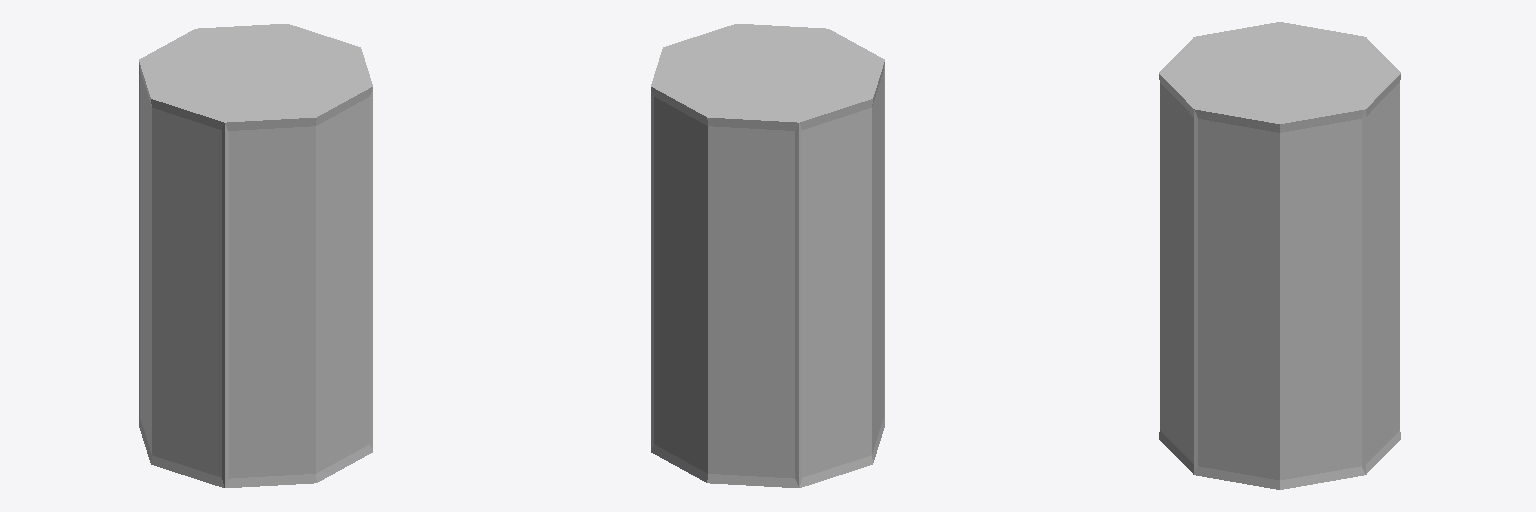
File: NeonLampe001.obj
3 views of the same model, side by side, from view 1: azimuth 30°, elevation 25°; view 2: azimuth 150°, elevation 25°; view 3: azimuth 270°, elevation 25° (orthographic).
Parts seen in each view (by area): view 1: NeonLampe001_Circle; view 2: NeonLampe001_Circle; view 3: NeonLampe001_Circle.
Boxes of the visible parts, x1,y1,x2,y2 form: NeonLampe001_Circle: [139, 24, 372, 487]; NeonLampe001_Circle: [651, 24, 884, 487]; NeonLampe001_Circle: [1159, 22, 1400, 489].
Bounding box in the file's own units: 2 × 3.33 × 2.